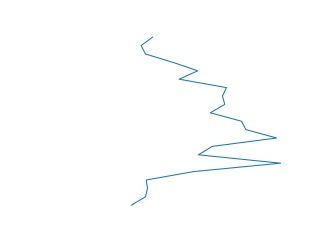floodSwamp: (127, 38, 290, 207)
